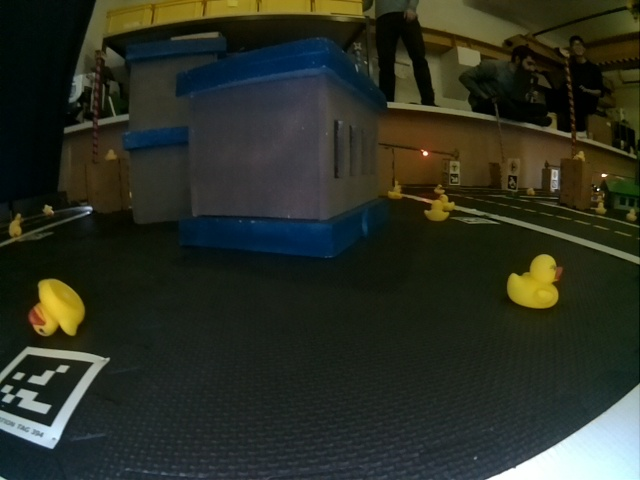Duckie: (28, 282, 84, 336), (508, 254, 561, 309), (425, 201, 449, 221), (9, 221, 22, 236), (438, 198, 455, 208), (390, 187, 402, 199), (104, 150, 115, 159), (597, 205, 607, 214), (435, 184, 443, 194), (44, 207, 53, 215)
Intersection sign: (510, 160, 518, 170), (452, 162, 459, 170)
QR code: (2, 348, 108, 448), (453, 216, 499, 224), (22, 231, 53, 240), (507, 176, 517, 191), (451, 174, 459, 183)
Signal sign: (441, 162, 450, 170)
Traffic light: (421, 150, 430, 156)
